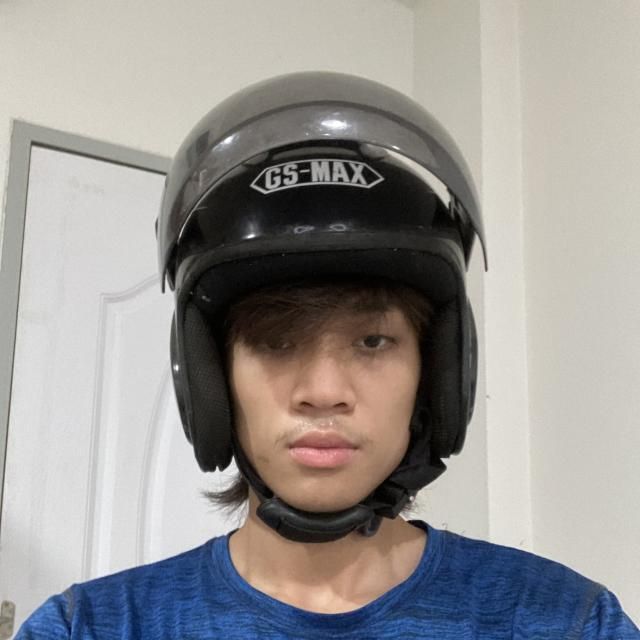helmet: (148, 63, 496, 550)
